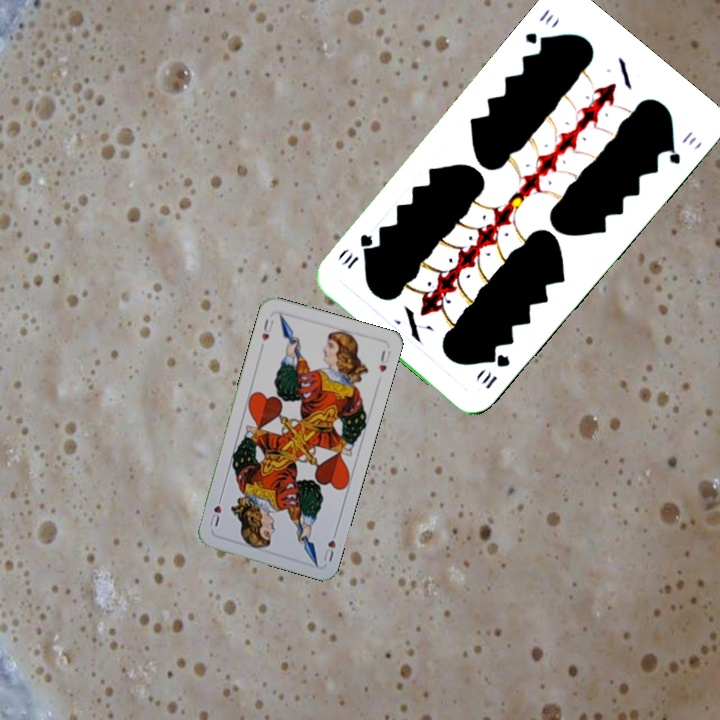G10: (521, 4, 557, 50), (478, 349, 513, 392)
HU: (319, 525, 340, 565), (258, 314, 276, 343)
